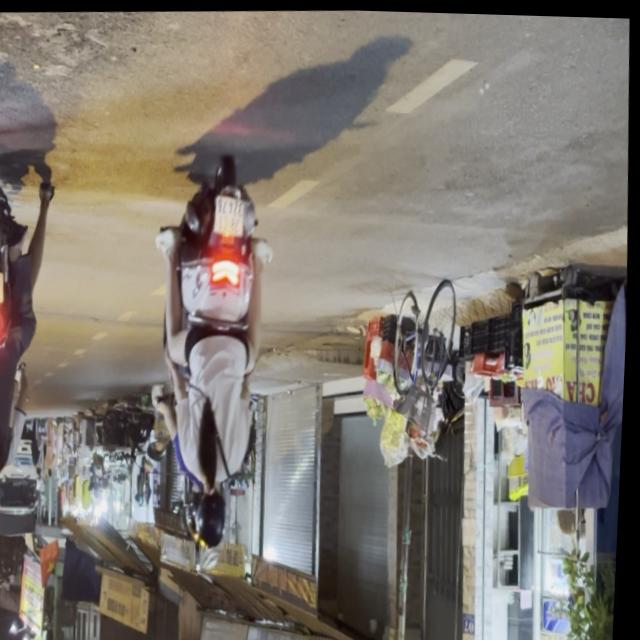helmet: (199, 484, 235, 547), (0, 477, 6, 528)
licenseplate: (143, 145, 288, 556), (0, 162, 67, 535)
nohelmet: (214, 196, 246, 235), (0, 273, 6, 306)
